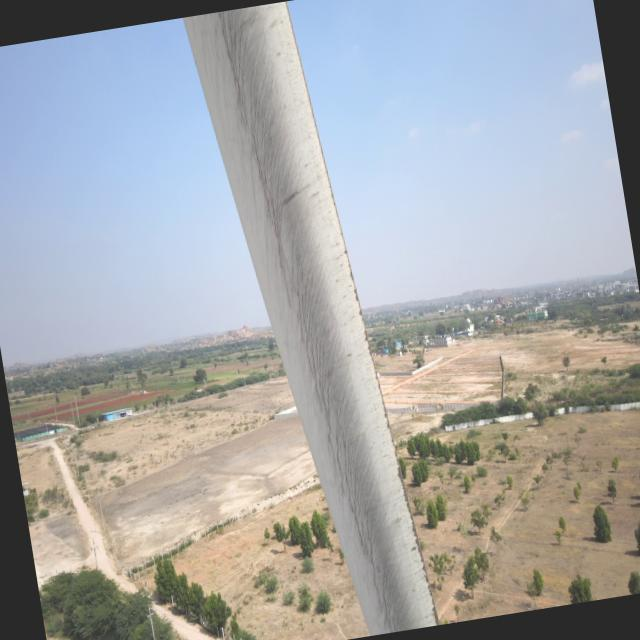Dirt: (222, 0, 439, 634)
